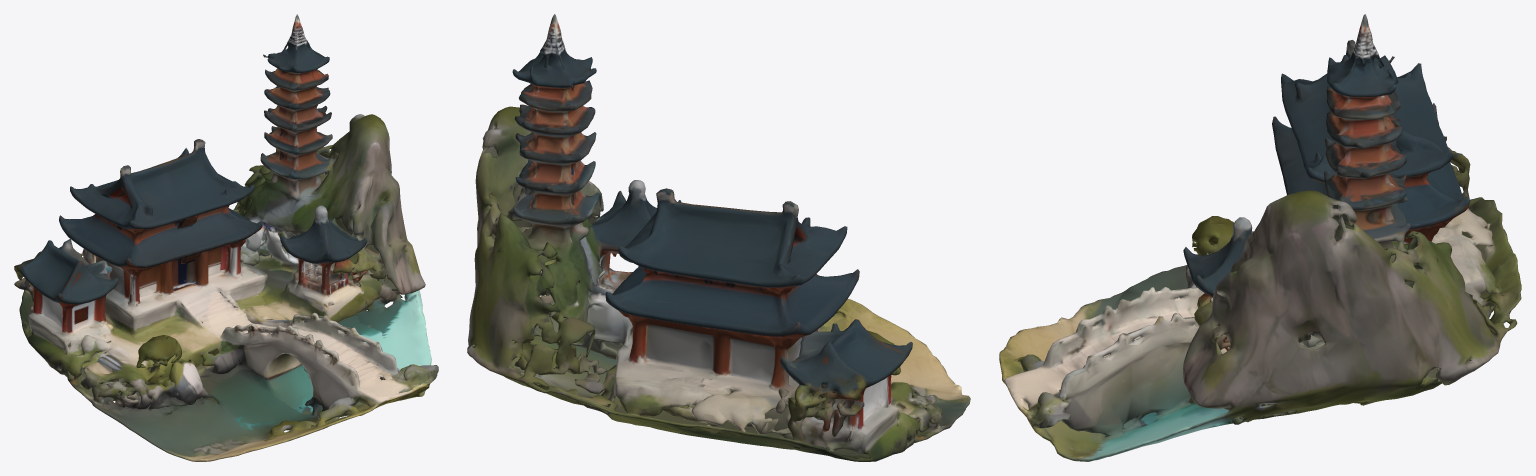
The picture shows the model from 3 angles, left to right: view 1: azimuth 30°, elevation 25°; view 2: azimuth 150°, elevation 25°; view 3: azimuth 270°, elevation 25°; orthographic projection. The views are drawn at different scales.
Parts seen in each view (by area): view 1: material.001; view 2: material.001; view 3: material.001.
Part boxes in pixels (bbox=[...]): material.001: bbox=[14, 14, 438, 461]; material.001: bbox=[467, 14, 970, 461]; material.001: bbox=[999, 14, 1521, 461].
Bounding box in the file's own units: 0.9037 × 0.85 × 0.8827.
1 material, 1 textured.
